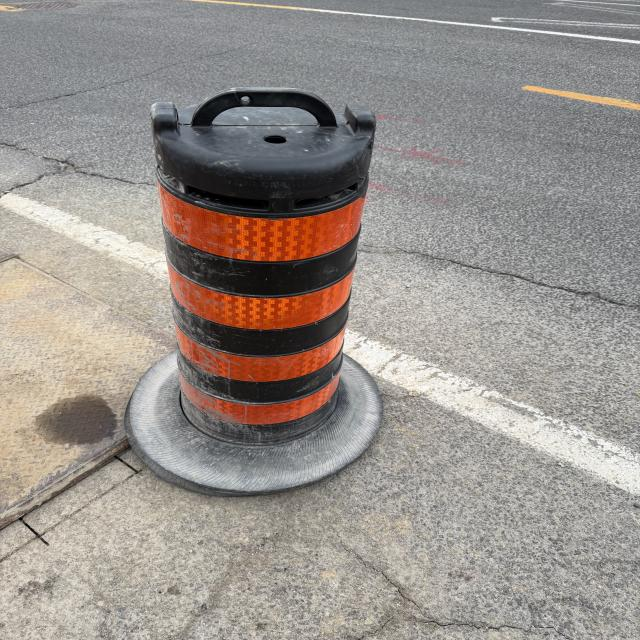Teraffic Barrel: (125, 88, 382, 495)
